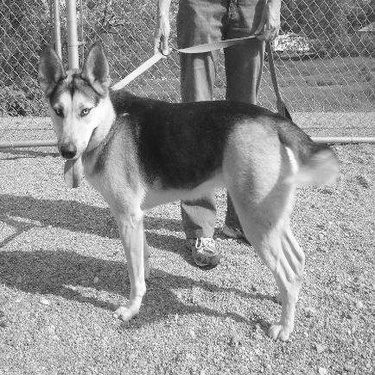dog: (21, 25, 346, 352)
